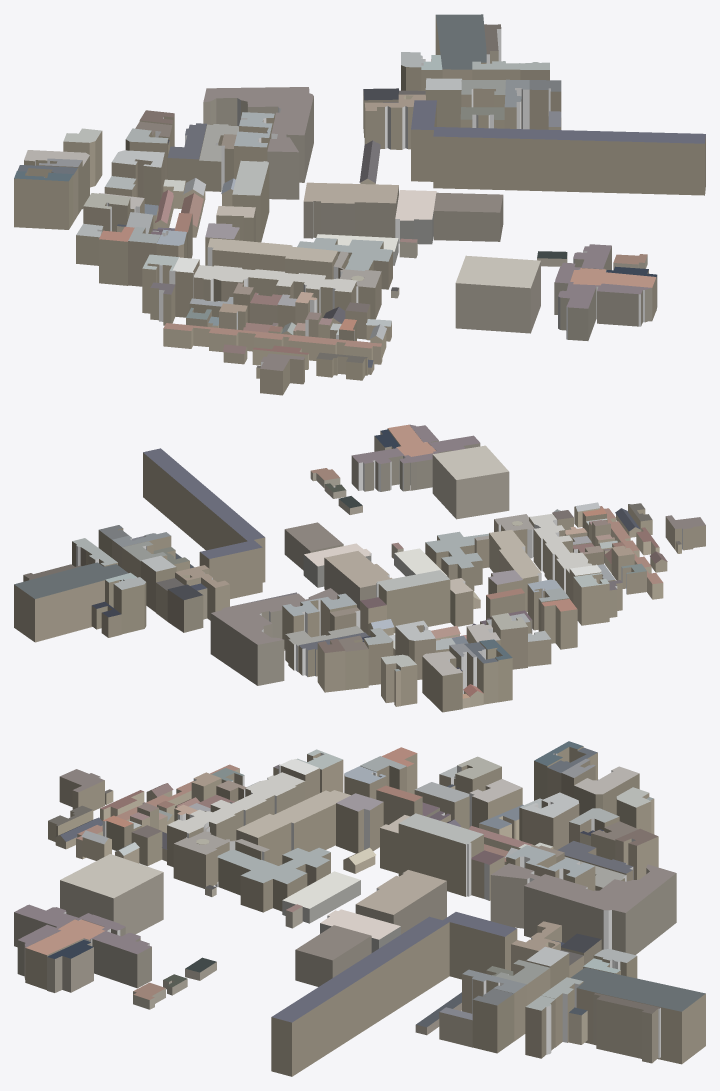
The picture shows the model from 3 angles, top to bottom: view 1: azimuth 30°, elevation 25°; view 2: azimuth 150°, elevation 25°; view 3: azimuth 270°, elevation 25°; orthographic projection. The views are drawn at different scales.
Visible parts, largest first — view 1: tuile; view 2: tuile; view 3: tuile.
Part boxes in pixels (x1=…): tuile: x1=14, y1=14, x2=705, y2=395; tuile: x1=14, y1=424, x2=705, y2=712; tuile: x1=14, y1=741, x2=705, y2=1076.
Bounding box in the file's own units: 284 × 28.54 × 284.
